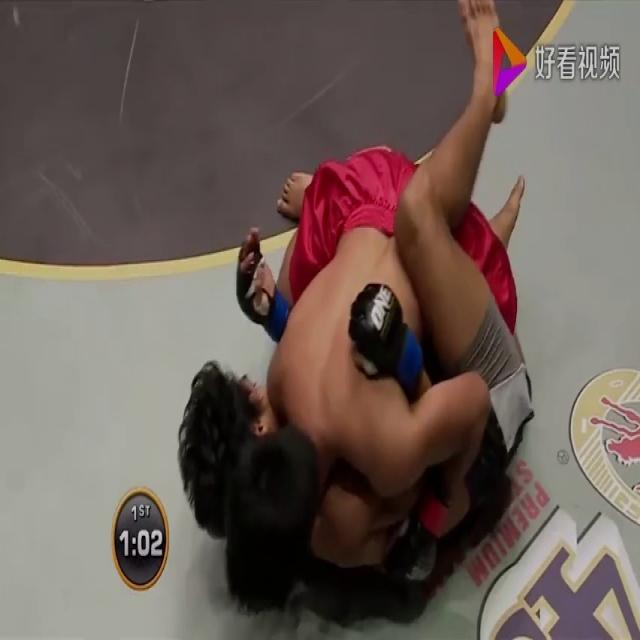fight: (156, 8, 621, 639)
